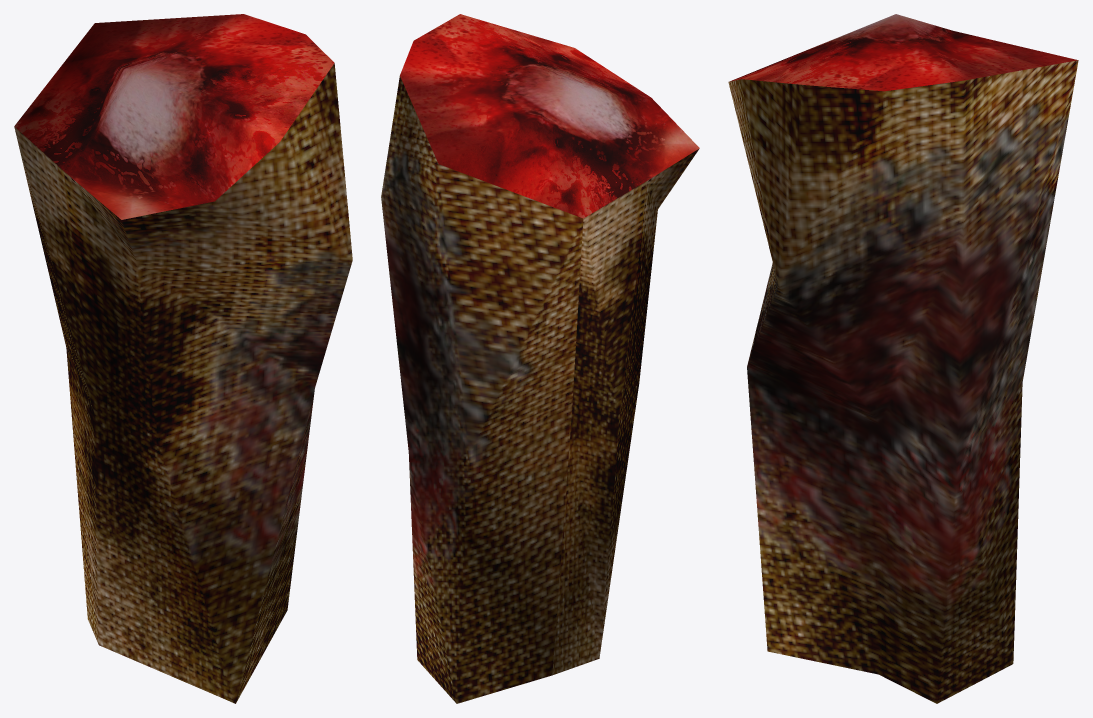
The model's file is lt_upleg.fbx.
3 renders of one model, left to right at view 1: azimuth 30°, elevation 25°; view 2: azimuth 150°, elevation 25°; view 3: azimuth 270°, elevation 25°, orthographic. The views are drawn at different scales.
Visible parts, largest first — view 1: lt_upleg_gib; view 2: lt_upleg_gib; view 3: lt_upleg_gib.
Boxes of the visible parts, box(x1,y1,x2,y2) form: lt_upleg_gib: box(14, 14, 352, 703); lt_upleg_gib: box(381, 14, 699, 703); lt_upleg_gib: box(728, 14, 1078, 703).
Bounding box in the file's own units: 0.2111 × 0.5112 × 0.258.
